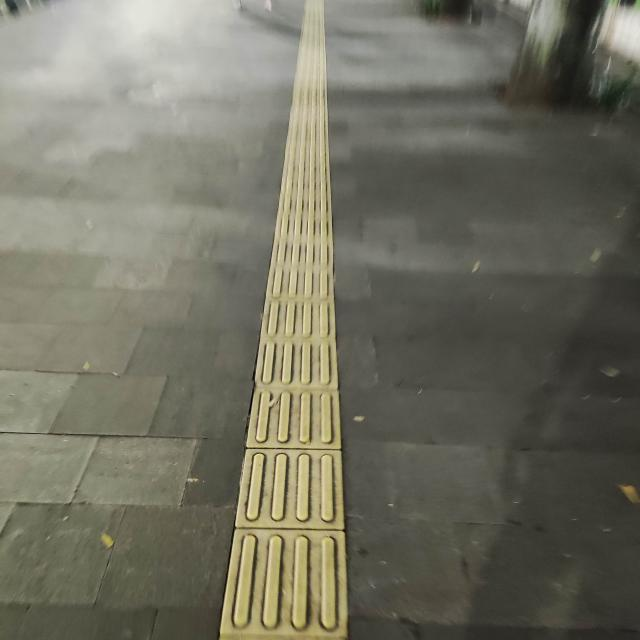lurus: (238, 9, 342, 640)
